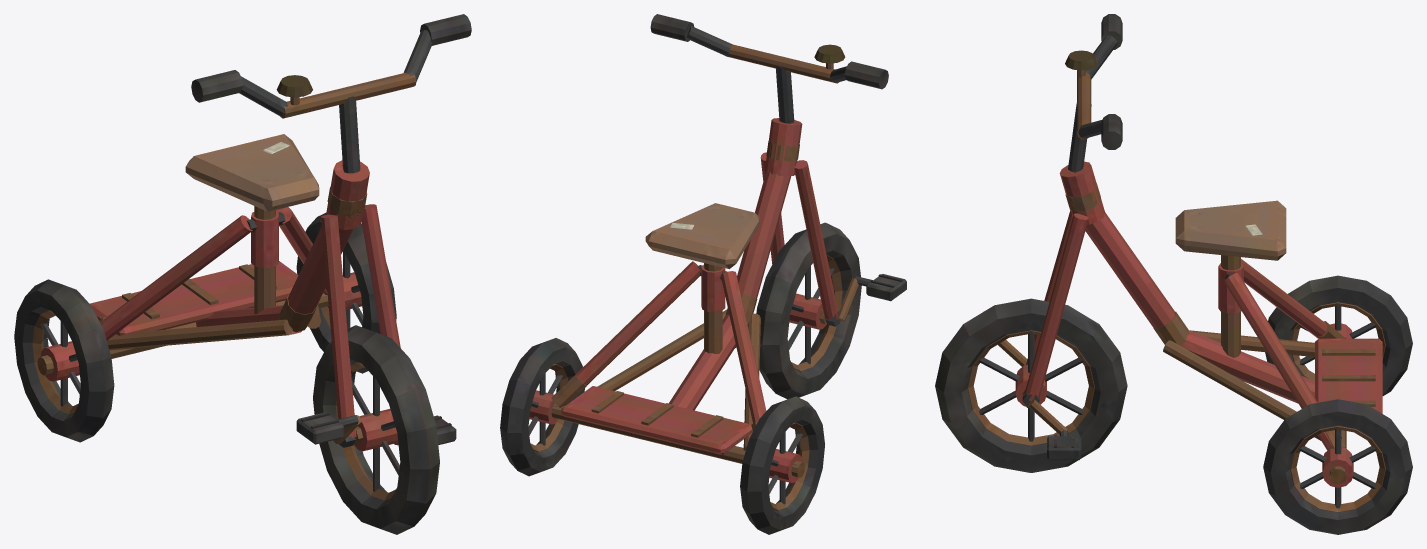
The model's file is V05_kid_tricycle_v1.glb.
3 renders of one model, left to right at view 1: azimuth 30°, elevation 25°; view 2: azimuth 150°, elevation 25°; view 3: azimuth 270°, elevation 25°, orthographic. The views are drawn at different scales.
Parts seen in each view (by area): view 1: Front cracked solid tire; view 2: Front cracked solid tire; view 3: Front cracked solid tire.
Boxes of the visible parts, x1,y1,x2,y2 form: Front cracked solid tire: (14, 14, 471, 534); Front cracked solid tire: (500, 14, 906, 534); Front cracked solid tire: (935, 14, 1412, 534).
Bounding box in the file's own units: 0.4952 × 0.647 × 0.7.
Materials: 8 (8 with a texture image).
